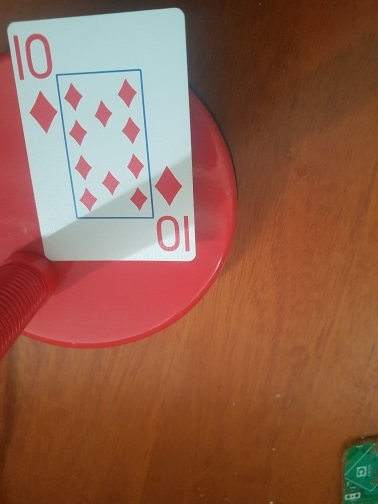ten: (7, 7, 193, 261)
